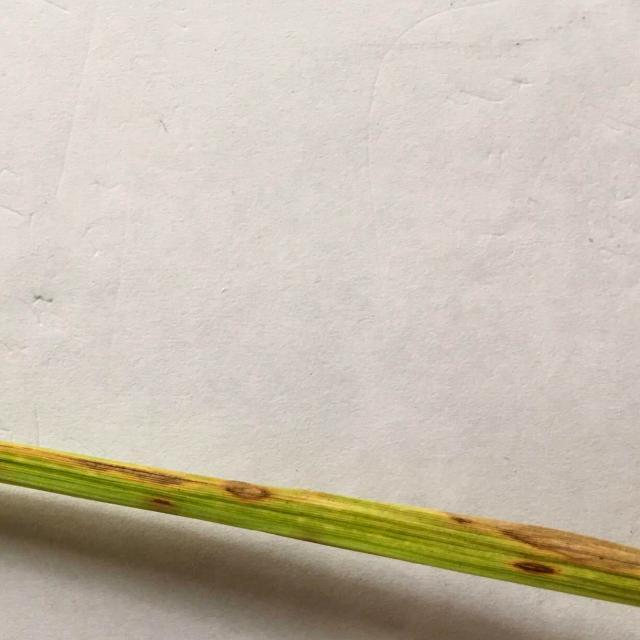Blast: (566, 539, 622, 564), (512, 557, 556, 577), (227, 485, 274, 502), (509, 531, 562, 546), (77, 462, 116, 480), (142, 496, 176, 508), (124, 474, 162, 484)
